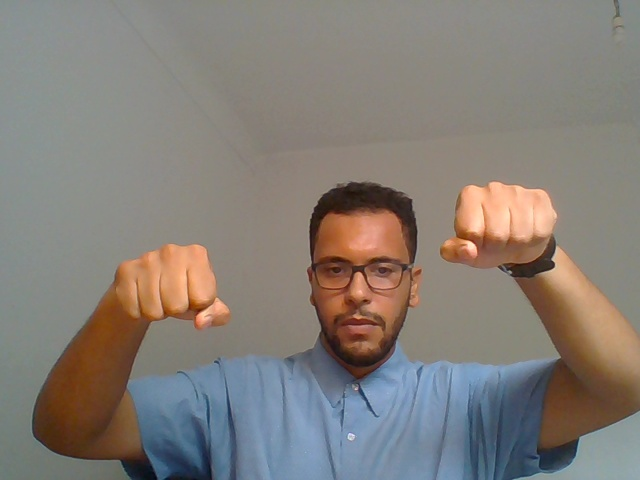yes: (425, 143, 573, 342), (92, 209, 255, 351)
